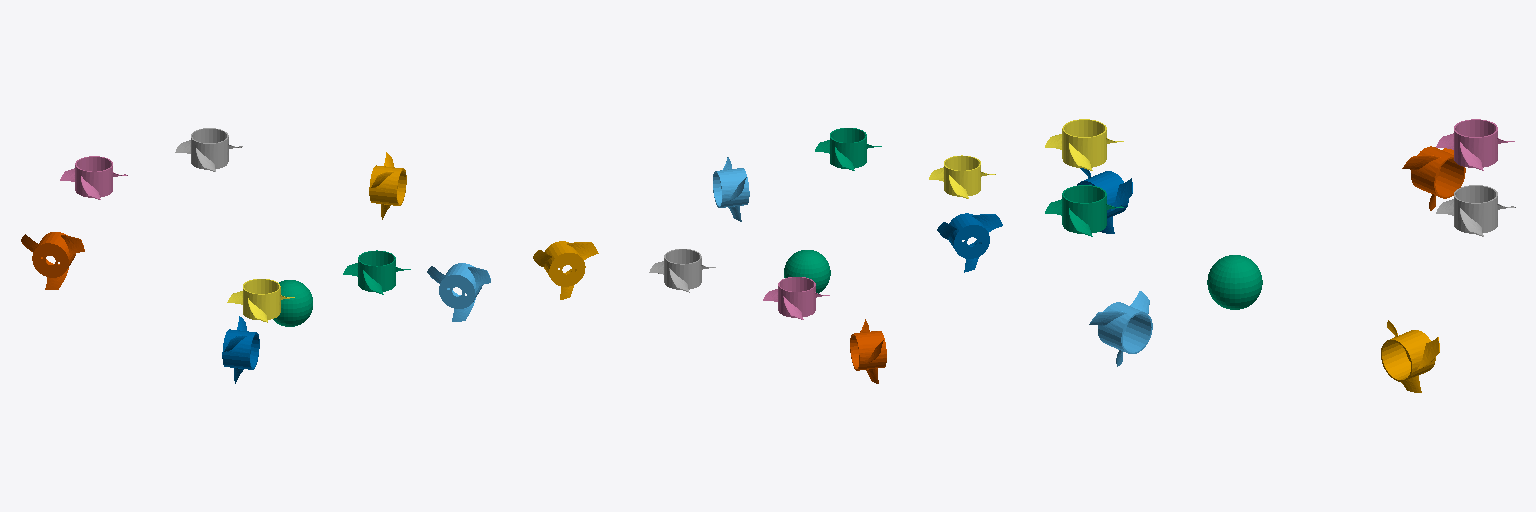
URDF robot description (jelly):
<?xml version='1.0'?>
<robot name="jelly">
<!--0.07044 -0.17671 0.07019-->
  <!-- Base Link -->
  <link name="base_link">
        <!--
          Be careful to setup the coefficients for the inertial tensor,
          otherwise your model will become unstable on Gazebo
        -->

        <visual>
          <origin xyz="0 0 0" rpy="0 0 0"/>
          <geometry>
            <mesh filename="package://jelly_description/meshes/jelly_mesh2.STL" scale="1 1 1" />
          </geometry>
          <material name="blue">
            <color rgba="0 0.5 1 1"/>
          </material>
        </visual>
        <!--
        <visual name="caster">
          <origin xyz="0 0 0" rpy="0 0 0" />
          <geometry>
            <sphere radius="0.05" />
          </geometry>
        </visual>
        -->

        <collision>
          <origin xyz="0 0 0" rpy="0 0 0"/>
          <geometry>
            <mesh filename="package://jelly_description/meshes/jelly_mesh2.STL" scale="1 1 1" />
          </geometry>
        </collision>
    </link>

  <!-- Thruster 1 -->
  <link name="thruster_1">
      <visual>
      <origin xyz="0.16931 -0.13868 -0.01801" rpy="0 0 0.7854" />
        <geometry>
          <mesh filename="package://jelly_description/meshes/prop_mesh2.STL" scale="1 1 1" />
        </geometry>
      </visual>

    </link>

    <joint name="thruster_1_joint" type="continuous">
      <axis xyz="1 0 0" />
      <parent link="base_link" />
      <child link="thruster_1" />
    </joint>
<!-- Thruster 2-->
     <link name="thruster_2">
      <visual>
      <origin xyz="0.07044 -0.17671 0.07019" rpy="0 -1.5708 0" />
        <geometry>
          <mesh filename="package://jelly_description/meshes/prop_mesh2.STL" scale="1 1 1" />
        </geometry>
      </visual>

      <visual name="caster">
      <origin xyz="0 0 0" rpy="0 0 0" />
        <geometry>
          <sphere radius="0.025" />
        </geometry>
      </visual>

    </link>

    <joint name="thruster_2_joint" type="continuous">
      <axis xyz="1 0 0" />
      <parent link="base_link" />
      <child link="thruster_2" />
    </joint>

<!-- Thruster 3-->
     <link name="thruster_3">
      <visual>
      <origin xyz="-0.06964 -0.17671 0.07019" rpy="0 -1.5708 0" />
        <geometry>
          <mesh filename="package://jelly_description/meshes/prop_mesh2.STL" scale="1 1 1" />
        </geometry>
      </visual>

    </link>

    <joint name="thruster_3_joint" type="continuous">
      <axis xyz="1 0 0" />
      <parent link="base_link" />
      <child link="thruster_3" />
    </joint>

    <!-- Thruster 4-->
     <link name="thruster_4">
      <visual>
      <origin xyz="-0.16848 -0.1387 -0.01801" rpy="0 0 -0.7854" />
        <geometry>
          <mesh filename="package://jelly_description/meshes/prop_mesh2.STL" scale="1 1 1" />
        </geometry>
      </visual>

    </link>

    <joint name="thruster_4_joint" type="continuous">
      <axis xyz="1 0 0" />
      <parent link="base_link" />
      <child link="thruster_4" />
    </joint>

    <!-- Thruster 5-->
     <link name="thruster_5">
      <visual>
      <origin xyz="-0.16197 0.1428 -0.01801" rpy="0 0 0.7854" />
        <geometry>
          <mesh filename="package://jelly_description/meshes/prop_mesh2.STL" scale="1 1 1" />
        </geometry>
      </visual>

    </link>

    <joint name="thruster_5_joint" type="continuous">
      <axis xyz="1 0 0" />
      <parent link="base_link" />
      <child link="thruster_5" />
    </joint>

    <!-- Thruster 6-->
     <link name="thruster_6">
      <visual>
      <origin xyz="-0.06964 0.17529 0.07019" rpy="0 -1.5708 0" />
        <geometry>
          <mesh filename="package://jelly_description/meshes/prop_mesh2.STL" scale="1 1 1" />
        </geometry>
      </visual>

    </link>

    <joint name="thruster_6_joint" type="continuous">
      <axis xyz="1 0 0" />
      <parent link="base_link" />
      <child link="thruster_6" />
    </joint>

    <!-- Thruster 7-->
     <link name="thruster_7">
      <visual>
      <origin xyz="0.07044 0.17529 0.07019" rpy="0 -1.5708 0" />
        <geometry>
          <mesh filename="package://jelly_description/meshes/prop_mesh2.STL" scale="1 1 1" />
        </geometry>
      </visual>

    </link>

    <joint name="thruster_7_joint" type="continuous">
      <axis xyz="1 0 0" />
      <parent link="base_link" />
      <child link="thruster_7" />
    </joint>

    <!-- Thruster 8-->
     <link name="thruster_8">
      <visual>
      <origin xyz="0.16931 0.13726 -0.01801" rpy="0 0 -0.7854" />
        <geometry>
          <mesh filename="package://jelly_description/meshes/prop_mesh2.STL" scale="1 1 1" />
        </geometry>
      </visual>

    </link>

    <joint name="thruster_8_joint" type="continuous">
      <axis xyz="1 0 0" />
      <parent link="base_link" />
      <child link="thruster_8" />
    </joint>
</robot>

--- What the picture shows (computed from the rendered views, not written in the file) ---
The picture shows the robot from 3 angles, left to right: view 1: azimuth 30°, elevation 25°; view 2: azimuth 150°, elevation 25°; view 3: azimuth 270°, elevation 25°; orthographic projection.
Model jelly with 9 links and 8 joints (8 continuous), rooted at base_link, posed all joints at 0.
Visible links, largest first — view 1: thruster_2, thruster_1, thruster_5, thruster_7, thruster_3, thruster_6, thruster_4, thruster_8; view 2: thruster_2, thruster_4, thruster_8, thruster_7, thruster_6, thruster_3, thruster_5, thruster_1; view 3: thruster_2, thruster_1, thruster_8, thruster_3, thruster_5, thruster_7, thruster_6, thruster_4.
Link boxes in pixels (x1=…): thruster_2: x1=273, y1=250, x2=410, y2=326; thruster_1: x1=427, y1=263, x2=490, y2=321; thruster_5: x1=21, y1=232, x2=84, y2=289; thruster_7: x1=175, y1=128, x2=242, y2=171; thruster_3: x1=227, y1=279, x2=294, y2=322; thruster_6: x1=60, y1=156, x2=127, y2=199; thruster_4: x1=222, y1=316, x2=259, y2=383; thruster_8: x1=369, y1=152, x2=406, y2=219; thruster_2: x1=784, y1=128, x2=881, y2=293; thruster_4: x1=937, y1=213, x2=1002, y2=272; thruster_8: x1=533, y1=241, x2=598, y2=299; thruster_7: x1=649, y1=249, x2=715, y2=292; thruster_6: x1=763, y1=277, x2=829, y2=319; thruster_3: x1=929, y1=155, x2=995, y2=198; thruster_5: x1=850, y1=319, x2=886, y2=383; thruster_1: x1=713, y1=157, x2=749, y2=221; thruster_2: x1=1045, y1=185, x2=1262, y2=309; thruster_1: x1=1089, y1=291, x2=1152, y2=366; thruster_8: x1=1381, y1=320, x2=1439, y2=392; thruster_3: x1=1045, y1=119, x2=1123, y2=170; thruster_5: x1=1402, y1=146, x2=1465, y2=210; thruster_7: x1=1436, y1=185, x2=1515, y2=236; thruster_6: x1=1436, y1=119, x2=1514, y2=170; thruster_4: x1=1077, y1=168, x2=1132, y2=233.
Bounding box of the posed robot: 0.443 × 0.4237 × 0.1253 m (x, y, z).
Meshes: 2 distinct files referenced, 8 mesh visuals loaded (1 ASCII STL); not drawn: 1 (reference not matched to a file when rendering).